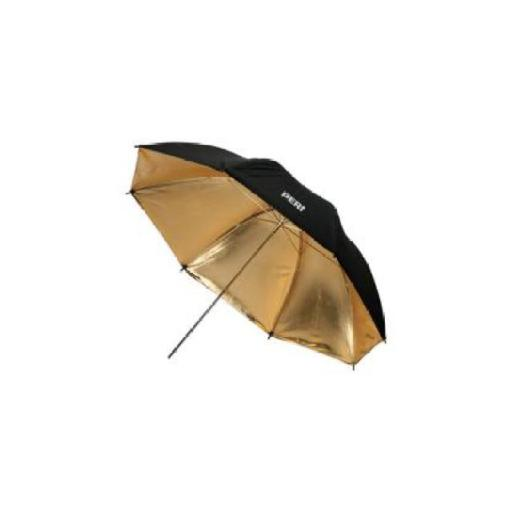guarda_chuva: (126, 140, 387, 370)
